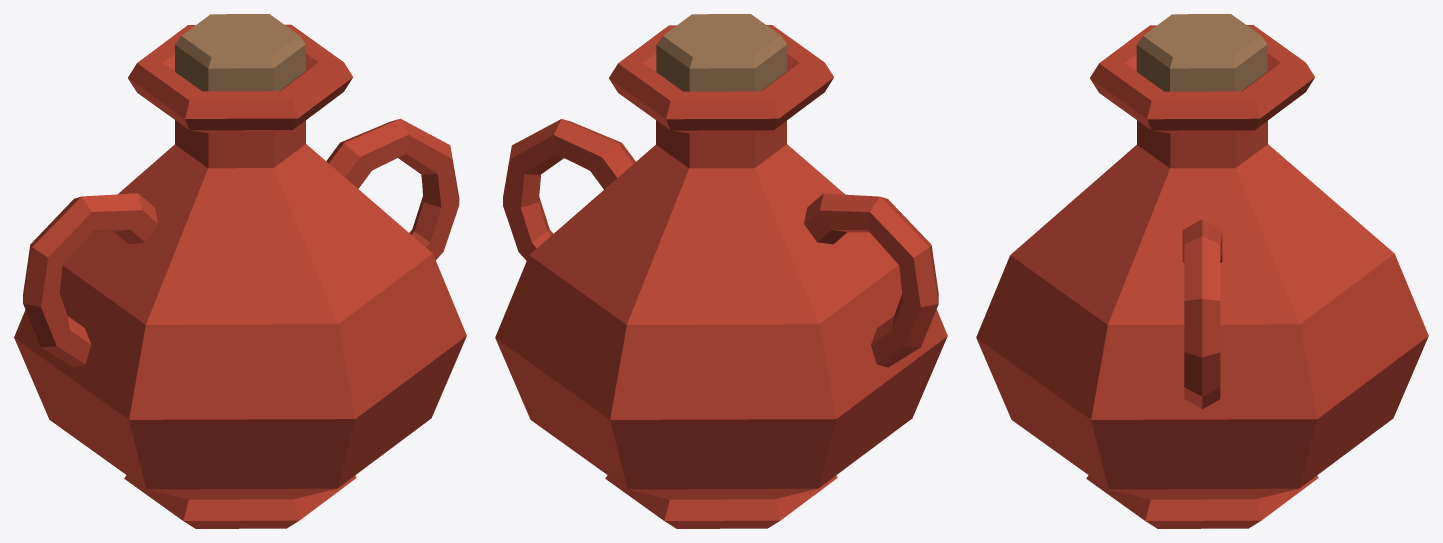
Rendered from potion_16.glb.
3 views of the same model, side by side, from view 1: azimuth 30°, elevation 25°; view 2: azimuth 150°, elevation 25°; view 3: azimuth 270°, elevation 25° (orthographic).
Visible parts, largest first — view 1: potion_16; view 2: potion_16; view 3: potion_16.
Boxes of the visible parts, box(x1,y1,x2,y2) form: potion_16: box(14, 14, 466, 528); potion_16: box(495, 14, 947, 528); potion_16: box(976, 14, 1428, 528).
Bounding box in the file's own units: 0.2259 × 0.2277 × 0.2032.
2 materials, 2 textured.
